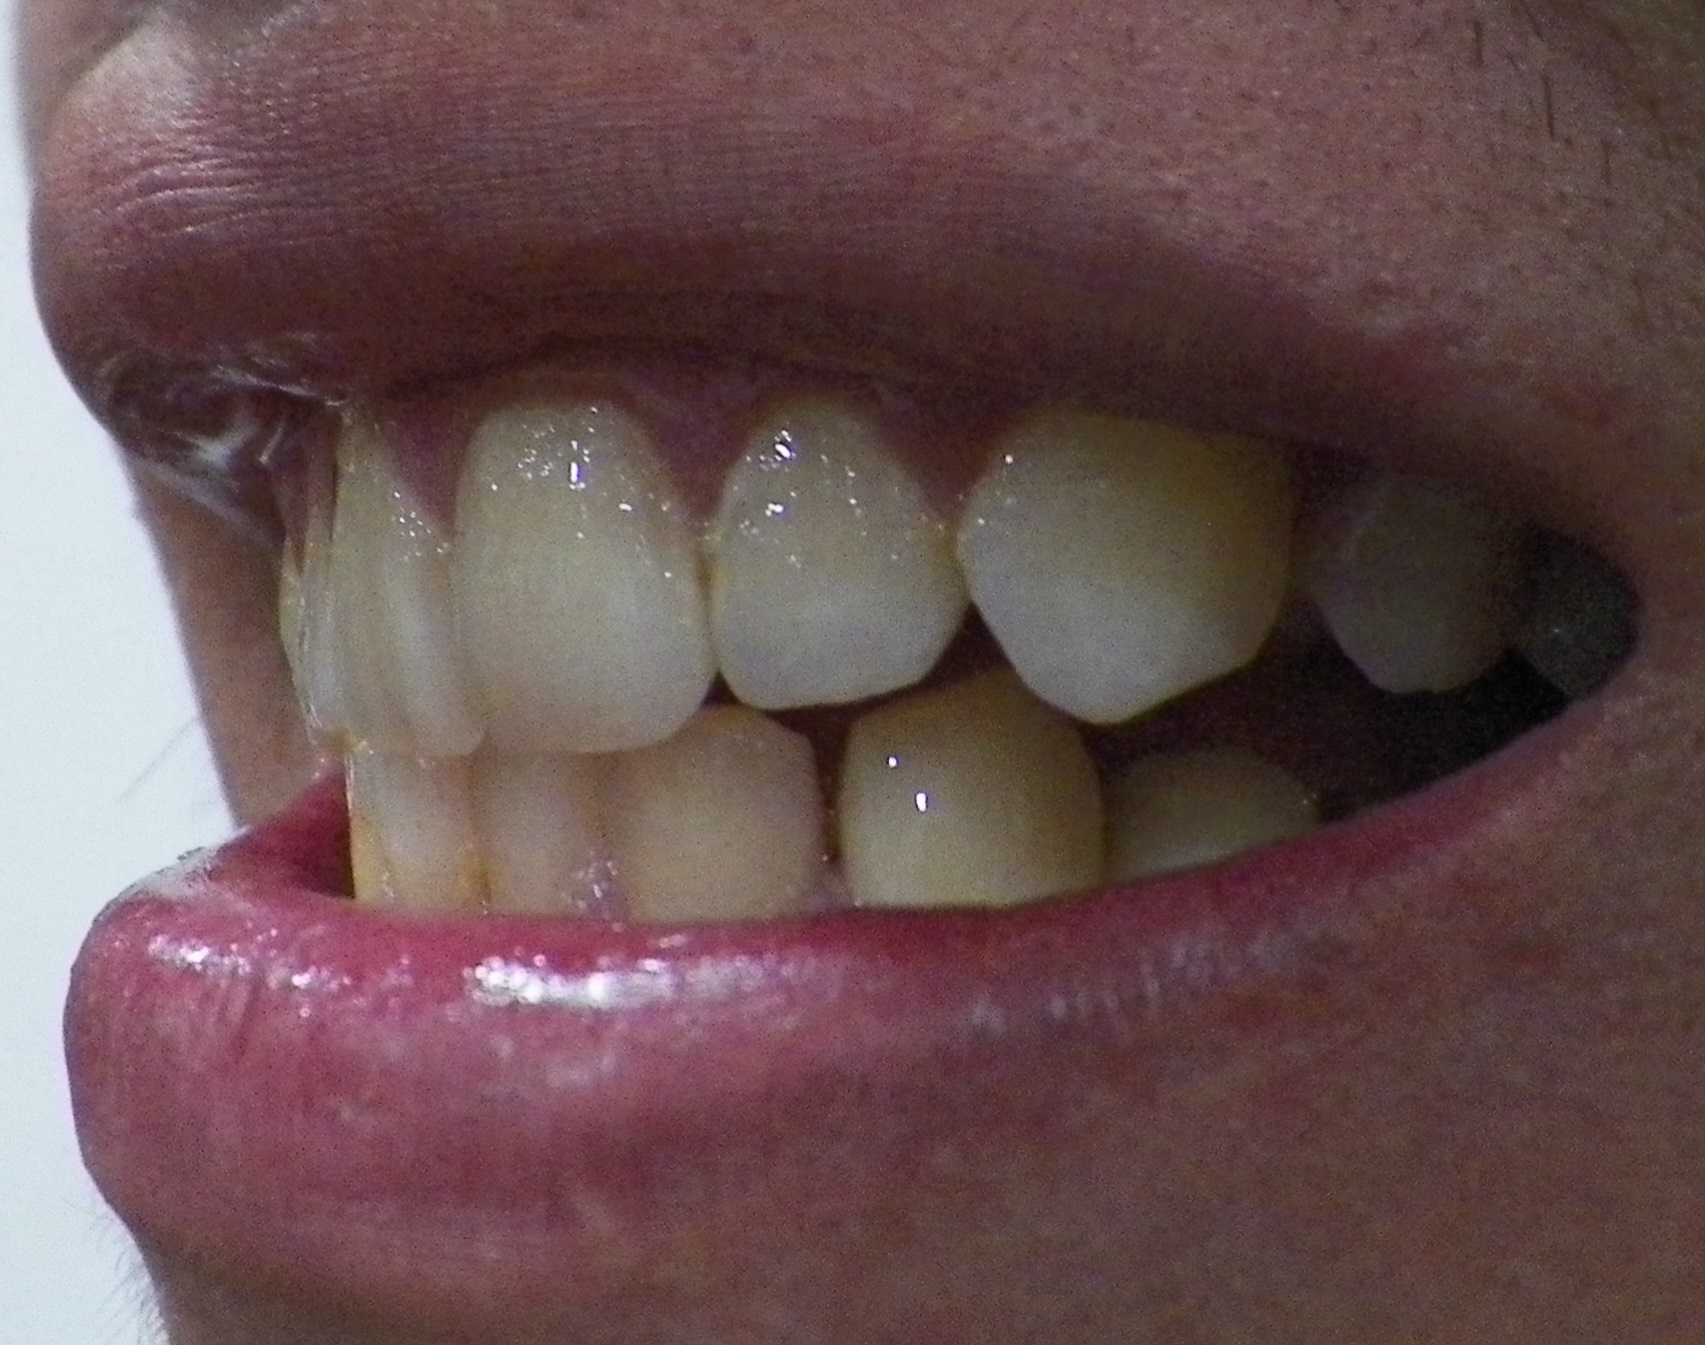boca: (263, 403, 1562, 923)
